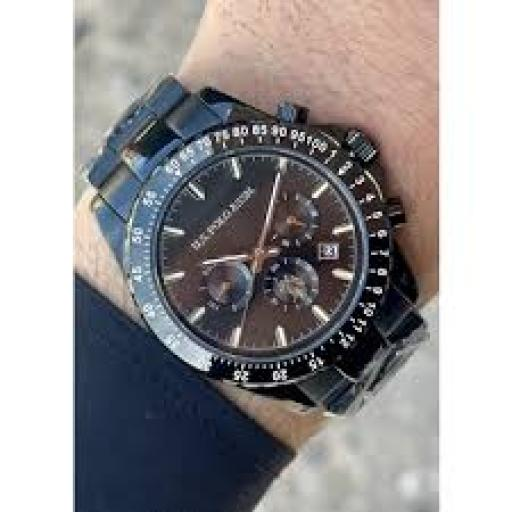KolSaati: (79, 76, 432, 428)
